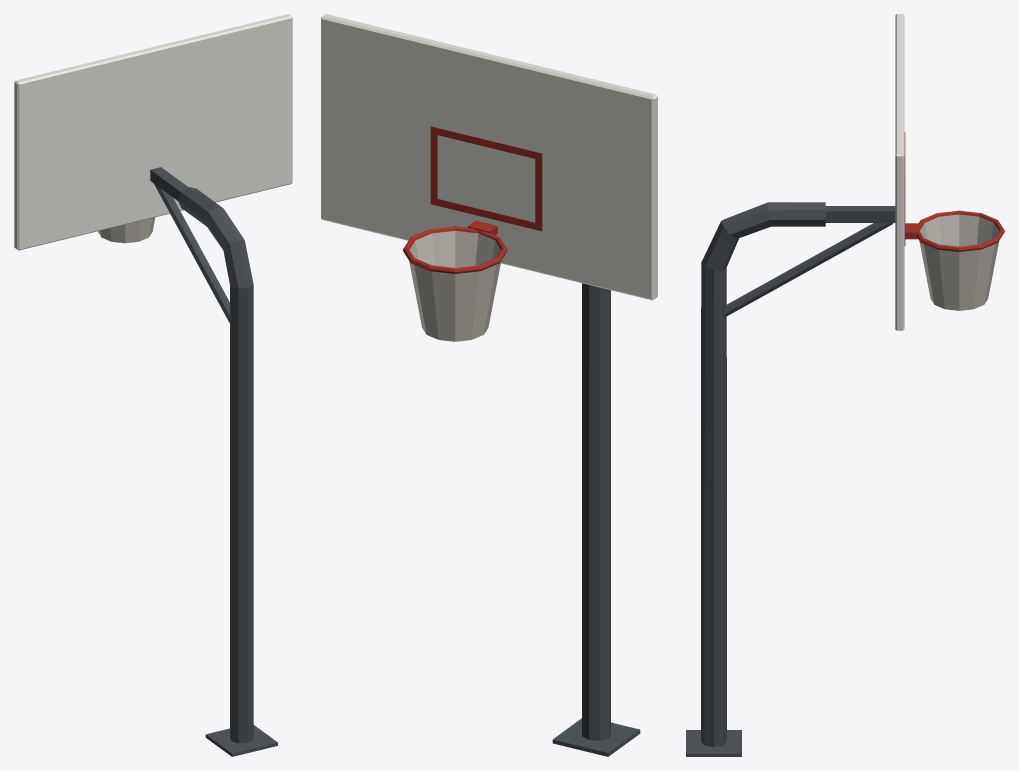
The model's file is panier_basket.glb.
3 views of the same model, side by side, from view 1: azimuth 30°, elevation 25°; view 2: azimuth 150°, elevation 25°; view 3: azimuth 270°, elevation 25° (orthographic). The views are drawn at different scales.
Parts seen in each view (by area): view 1: board, post, brace, plate, net, arm; view 2: board, post, net, square_h, plate, rim, square_v; view 3: post, net, board, brace, arm, plate, rim.
Boxes of the visible parts, <box> form: board: <box>14,14,292,250</box>; post: <box>178,187,253,743</box>; brace: <box>154,184,229,323</box>; plate: <box>205,725,277,756</box>; net: <box>98,217,155,243</box>; arm: <box>150,167,188,200</box>; board: <box>321,14,657,300</box>; post: <box>582,283,610,740</box>; net: <box>409,230,501,341</box>; square_h: <box>430,126,542,231</box>; plate: <box>552,718,640,756</box>; rim: <box>403,226,507,273</box>; square_v: <box>430,126,542,230</box>; post: <box>701,202,825,747</box>; net: <box>919,214,999,310</box>; board: <box>895,14,904,330</box>; brace: <box>724,223,893,316</box>; arm: <box>825,206,895,222</box>; plate: <box>686,730,741,756</box>; rim: <box>917,210,1004,251</box>.
Bounding box in the file's own units: 1.8 × 3.92 × 1.72.
4 materials, 4 textured.
